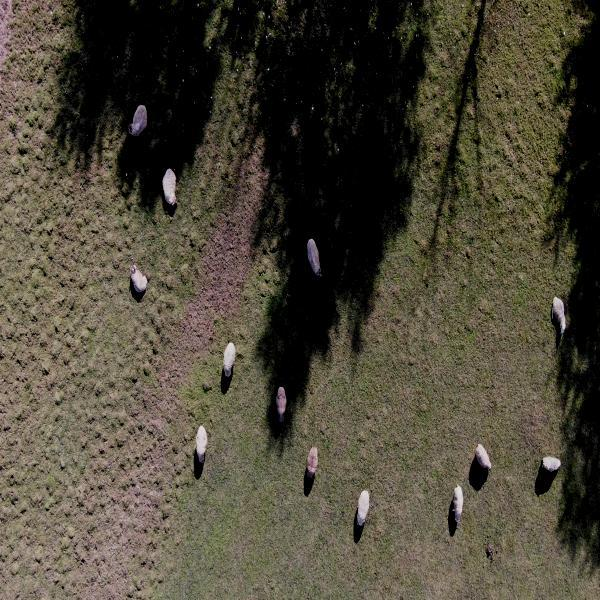sheep: (293, 441, 324, 501), (300, 236, 328, 297), (190, 426, 220, 477), (129, 262, 153, 323), (156, 165, 183, 219), (473, 423, 497, 482), (122, 102, 151, 149), (353, 477, 375, 536), (448, 475, 469, 531), (544, 291, 567, 340), (218, 338, 236, 398), (534, 445, 565, 478), (274, 384, 293, 431)
